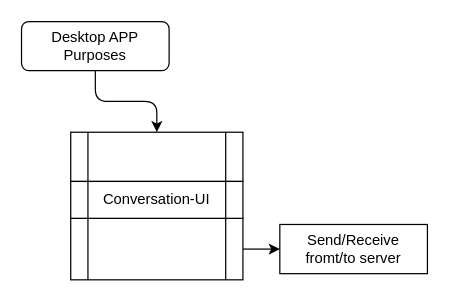
This 449x301 diagram has some shape labels left out. Here are the shapes that lost their labels. From the top down, the centre of each, then its label:
pixel 156 156: Interact with server
pixel 156 248: Realtime Audio/Video (streams)
